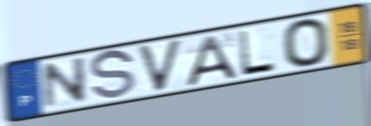A: (183, 33, 239, 88)
L: (236, 28, 279, 78)
N: (41, 55, 89, 112)
O: (280, 17, 333, 70)
S: (89, 47, 138, 103)
V: (134, 36, 185, 95)
